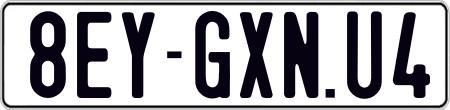4: (391, 11, 432, 99)
8: (30, 9, 69, 102)
E: (77, 10, 113, 101)
G: (193, 9, 230, 102)
N: (284, 9, 320, 96)
U: (347, 9, 384, 102)
X: (240, 11, 278, 103)
Y: (121, 10, 156, 100)
